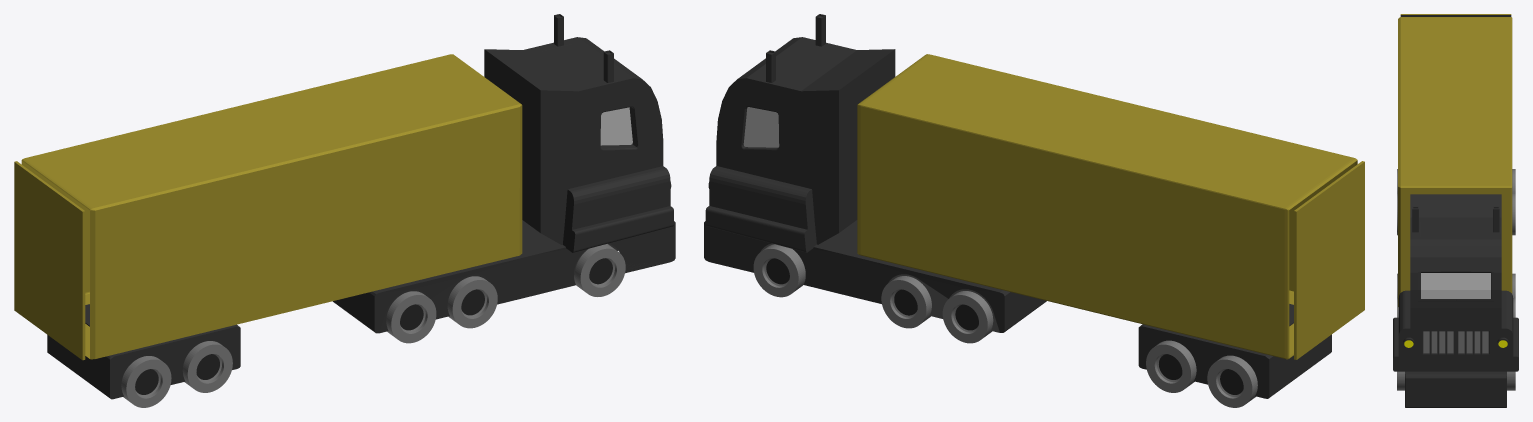
File: LKW_animation.fbx
3 renders of one model, left to right at view 1: azimuth 30°, elevation 25°; view 2: azimuth 150°, elevation 25°; view 3: azimuth 270°, elevation 25°, orthographic. The views are drawn at different scales.
Parts seen in each view (by area): view 1: LKW, Door.001; view 2: LKW, Door.001; view 3: LKW, Door.001.
Part boxes in pixels (x1=…): LKW: x1=21, y1=14, x2=675, y2=407; Door.001: x1=14, y1=161, x2=85, y2=360; LKW: x1=704, y1=14, x2=1357, y2=407; Door.001: x1=1294, y1=161, x2=1364, y2=359; LKW: x1=1393, y1=17, x2=1518, y2=407; Door.001: x1=1400, y1=14, x2=1511, y2=16.
Size of the model in its own units: 1882 by 698 by 425.
